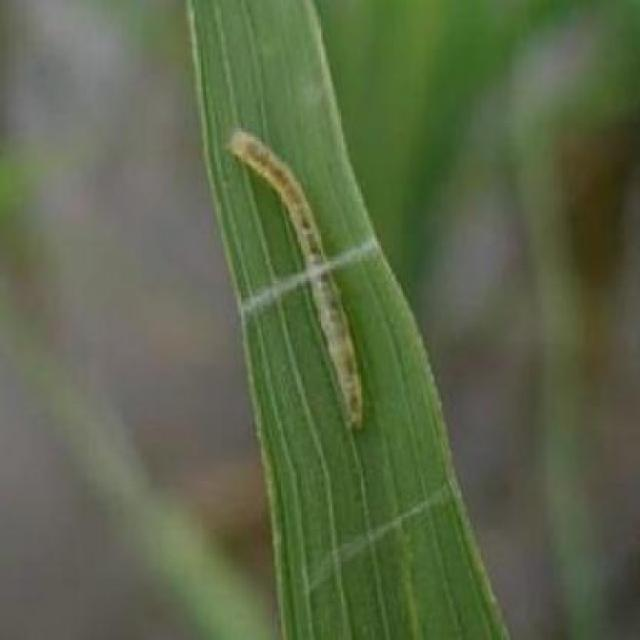leaf-folder: (217, 114, 375, 454)
